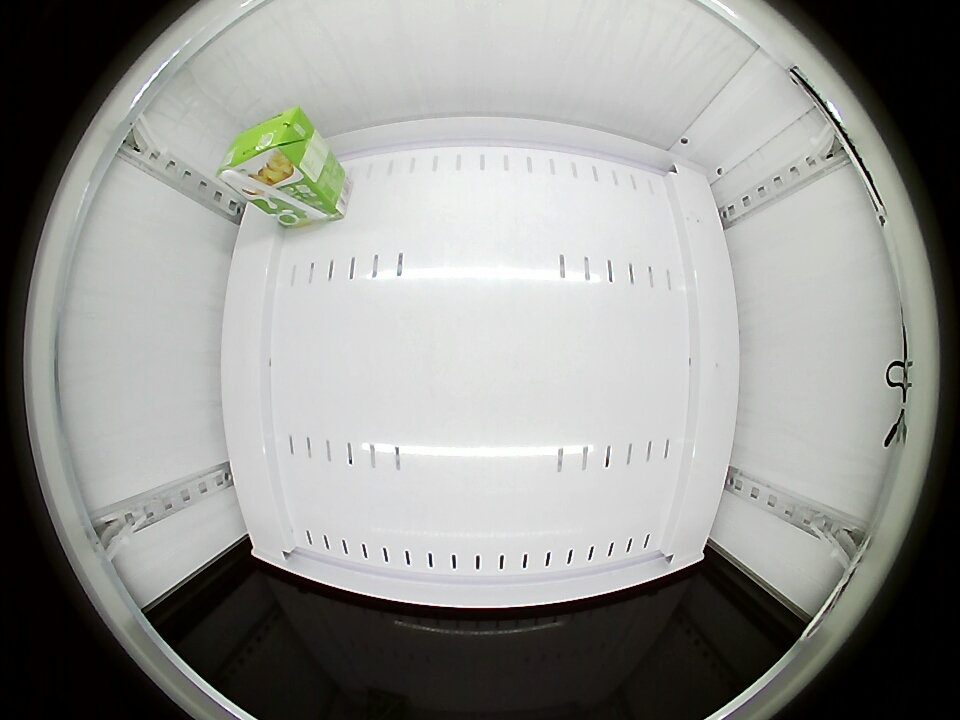mengniuzaocan: (218, 107, 319, 191)
